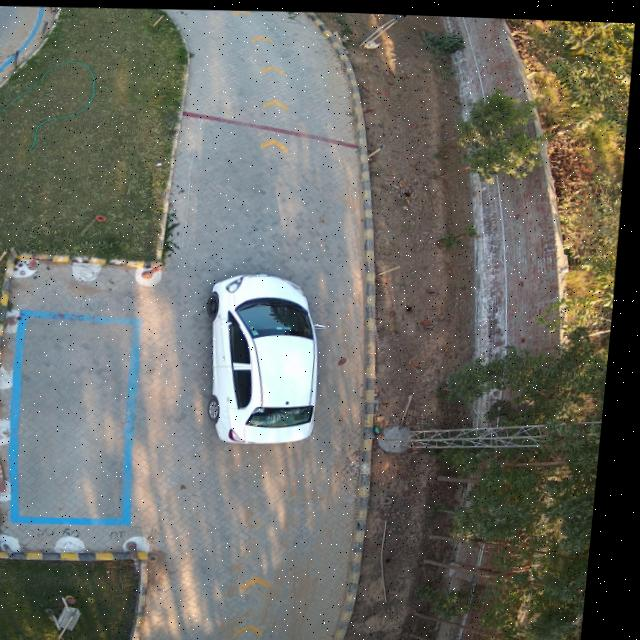car: (212, 270, 323, 442)
